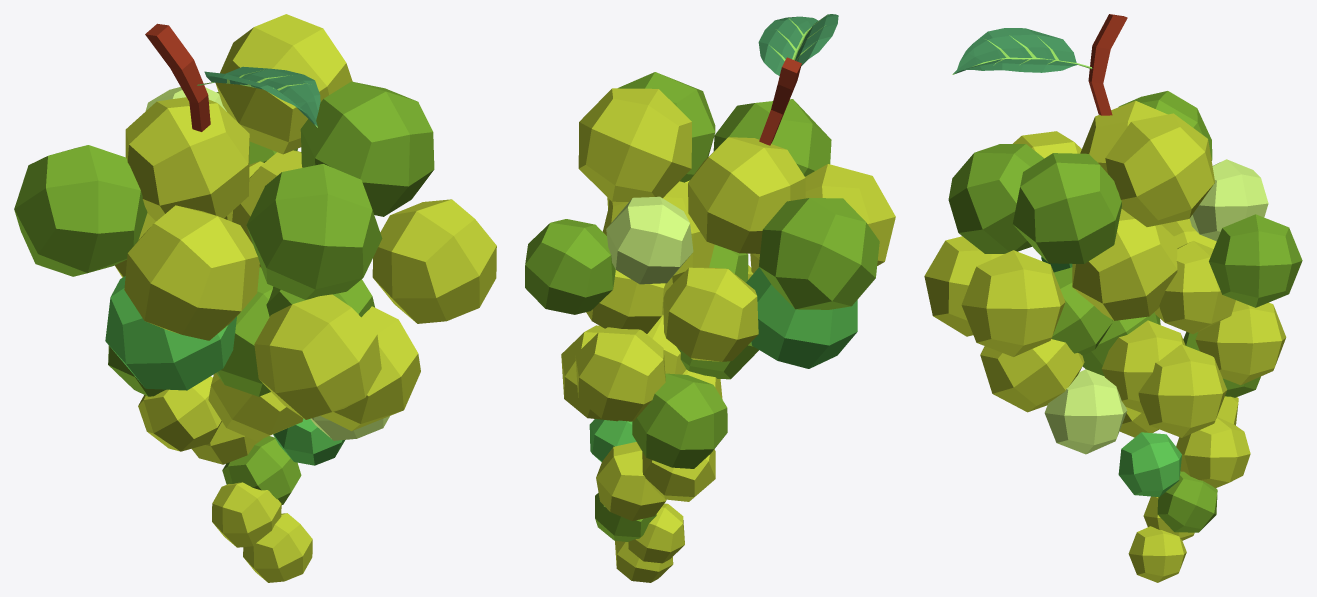
The model's file is grapes-green.fbx.
3 renders of one model, left to right at view 1: azimuth 30°, elevation 25°; view 2: azimuth 150°, elevation 25°; view 3: azimuth 270°, elevation 25°, orthographic. The views are drawn at different scales.
Parts seen in each view (by area): view 1: Cube.055; view 2: Cube.055; view 3: Cube.055.
Boxes of the visible parts, <box> form: Cube.055: <box>14,14,496,582</box>; Cube.055: <box>525,14,895,582</box>; Cube.055: <box>924,14,1302,582</box>.
Size of the model in its own units: 123 by 189 by 128.
